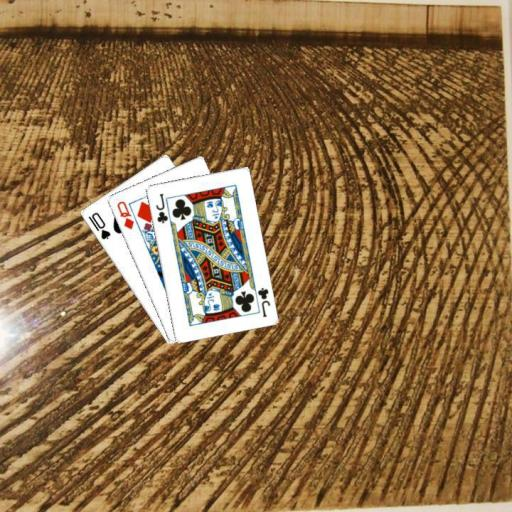10S: (85, 209, 112, 241)
JC: (254, 285, 272, 319), (152, 190, 169, 225)
QD: (113, 198, 135, 231)
